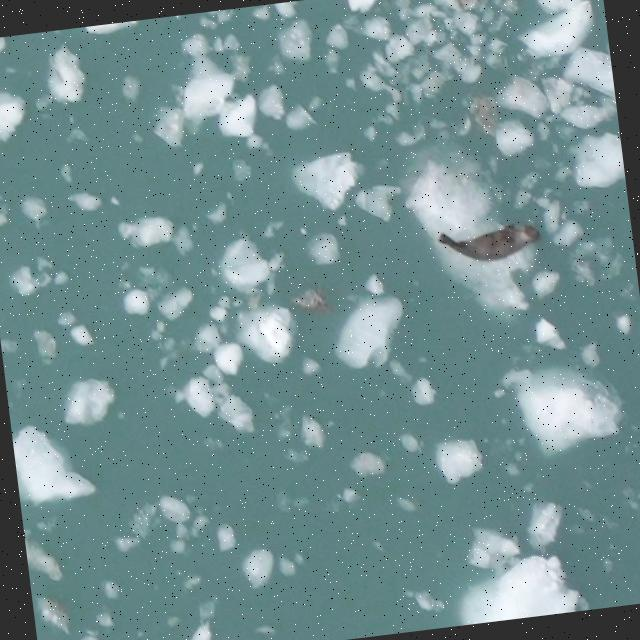seal: (435, 220, 542, 268)
